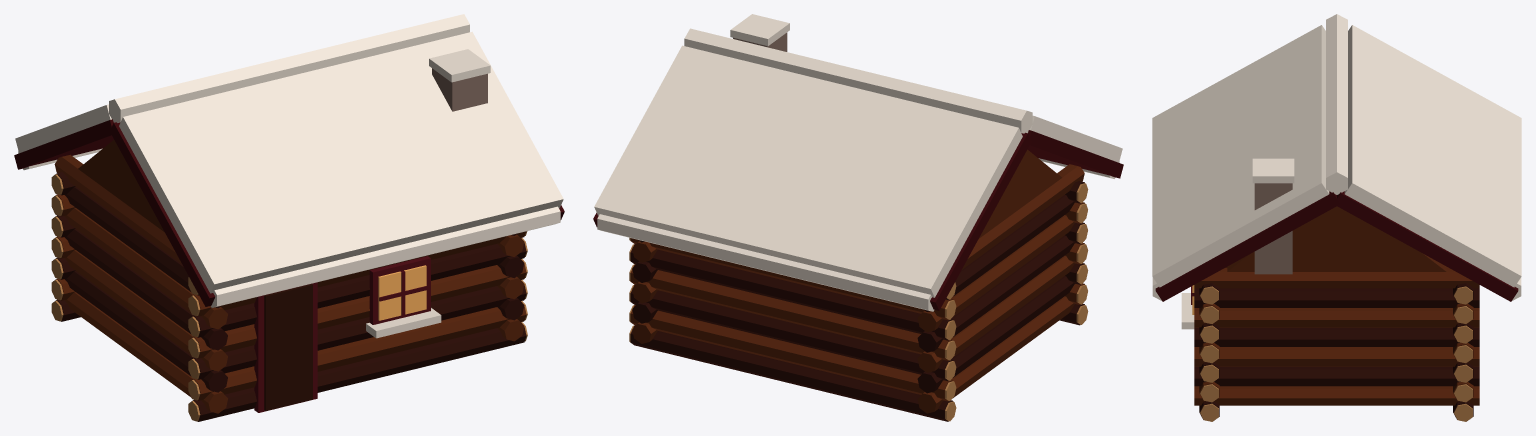
The model's file is rs_cabin.glb.
The picture shows the model from 3 angles, left to right: view 1: azimuth 30°, elevation 25°; view 2: azimuth 150°, elevation 25°; view 3: azimuth 270°, elevation 25°; orthographic projection. The views are drawn at different scales.
Visible parts, largest first — view 1: roof, body; view 2: roof, body; view 3: roof, body.
Part boxes in pixels (x1=…): roof: x1=14, y1=14, x2=564, y2=307; body: x1=51, y1=49, x2=527, y2=421; roof: x1=593, y1=28, x2=1123, y2=311; body: x1=629, y1=14, x2=1088, y2=421; roof: x1=1152, y1=14, x2=1521, y2=301; body: x1=1181, y1=158, x2=1479, y2=421.
Size of the model in its own units: 6 by 4.44 by 5.82.
